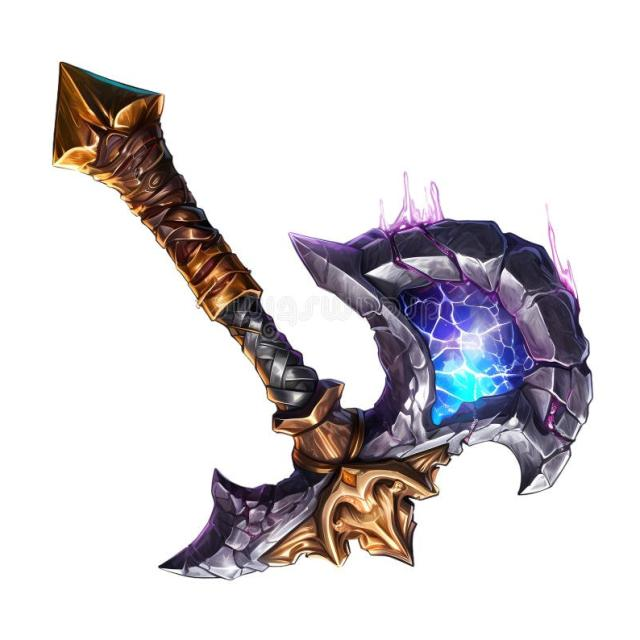Gun: (27, 48, 570, 612)
